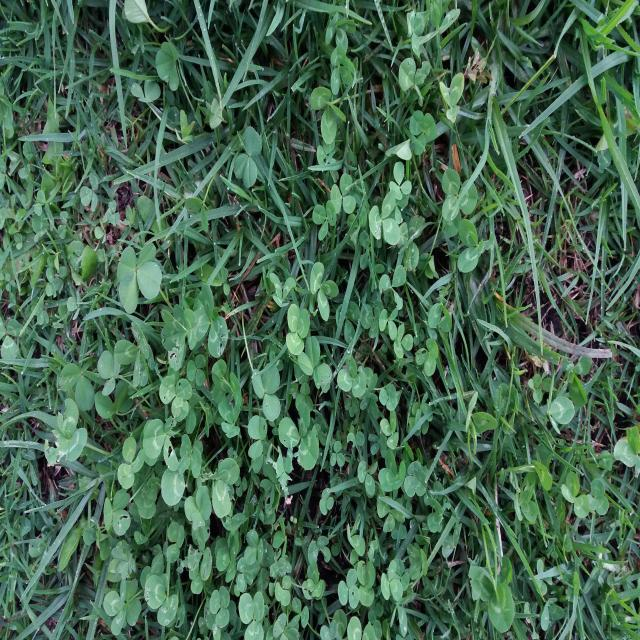Four Leaf Clover: (117, 242, 162, 314)
